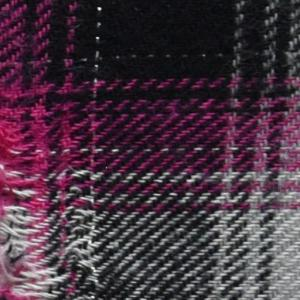Damage: (1, 120, 99, 300)
